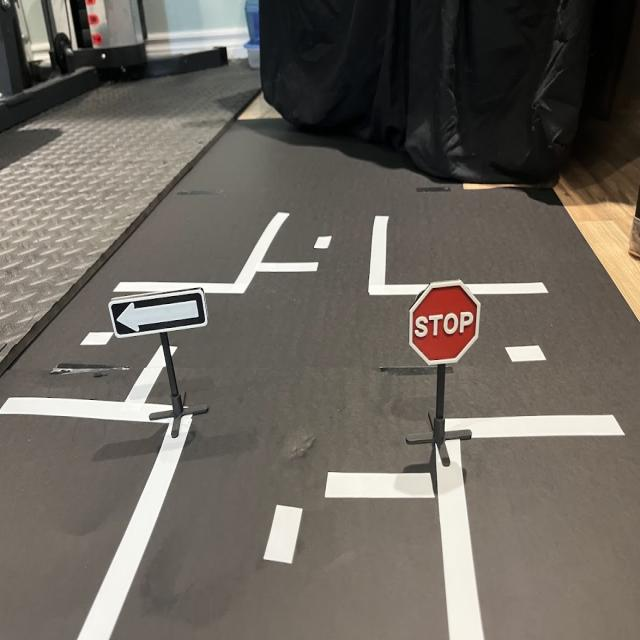sign_oneway_left: (110, 287, 210, 339)
sign_stop: (412, 283, 480, 363)
